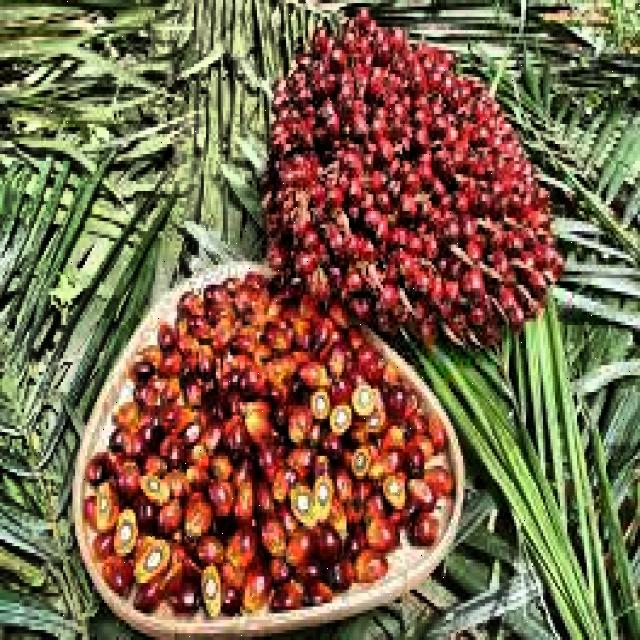FFB: (272, 18, 559, 346)
